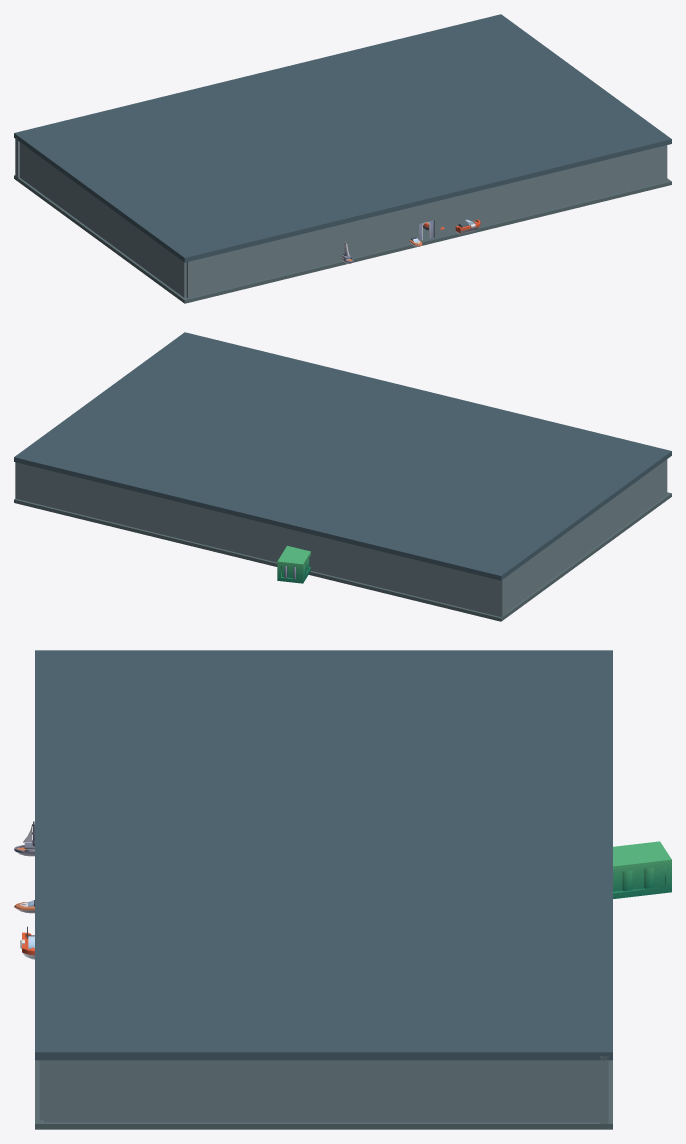
File: world.glb
3 renders of one model, top to bottom at view 1: azimuth 30°, elevation 25°; view 2: azimuth 150°, elevation 25°; view 3: azimuth 270°, elevation 25°, orthographic. The views are drawn at different scales.
Parts seen in each view (by area): view 1: Ceiling, Wall_S_L, Wall_S_R, Wall_W, Terrain; view 2: Ceiling, Wall_N, Wall_W, Terrain, Wreck_039_cargo-container-c; view 3: Ceiling, Wall_E, Terrain, Wreck_039_cargo-container-c.
Boxes of the visible parts, box(x1,y1,x2,y2) form: Ceiling: box(14, 14, 671, 262); Wall_S_L: box(186, 205, 419, 298); Wall_S_R: box(433, 145, 666, 237); Wall_W: box(20, 142, 186, 297); Terrain: box(14, 175, 671, 303); Ceiling: box(14, 332, 671, 580); Wall_N: box(15, 462, 504, 617); Wall_W: box(505, 459, 667, 612); Terrain: box(14, 492, 671, 621); Wreck_039_cargo-container-c: box(277, 545, 310, 583); Ceiling: box(35, 650, 612, 1060); Wall_E: box(44, 1060, 599, 1122); Terrain: box(35, 1060, 612, 1129); Wreck_039_cargo-container-c: box(613, 841, 671, 898).
Bounding box in the file's own units: 76.4 × 6.85 × 52.82.
50 materials, 42 textured.
